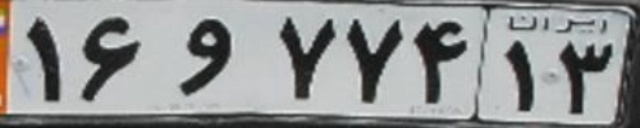1: (22, 17, 63, 102), (501, 38, 535, 111)
3: (556, 39, 612, 116)
4: (412, 19, 461, 104)
6: (78, 13, 142, 101)
7: (278, 14, 336, 99), (346, 15, 400, 103)
vav: (173, 16, 237, 96)
